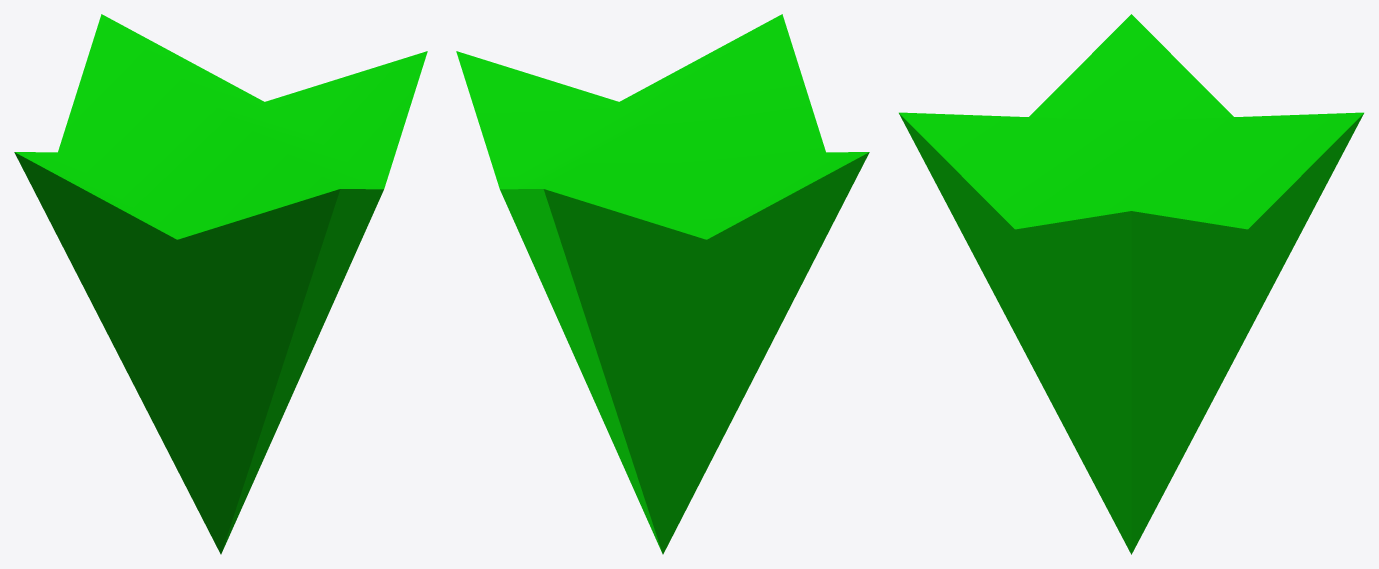
The model's file is Cursor.fbx.
3 views of the same model, side by side, from view 1: azimuth 30°, elevation 25°; view 2: azimuth 150°, elevation 25°; view 3: azimuth 270°, elevation 25° (orthographic). The views are drawn at different scales.
Visible parts, largest first — view 1: cursor_point; view 2: cursor_point; view 3: cursor_point.
Boxes of the visible parts, x1,y1,x2,y2 form: cursor_point: (14, 14, 427, 554); cursor_point: (456, 14, 869, 554); cursor_point: (899, 14, 1363, 554).
Bounding box in the file's own units: 1.21 × 1.26 × 1.21.
